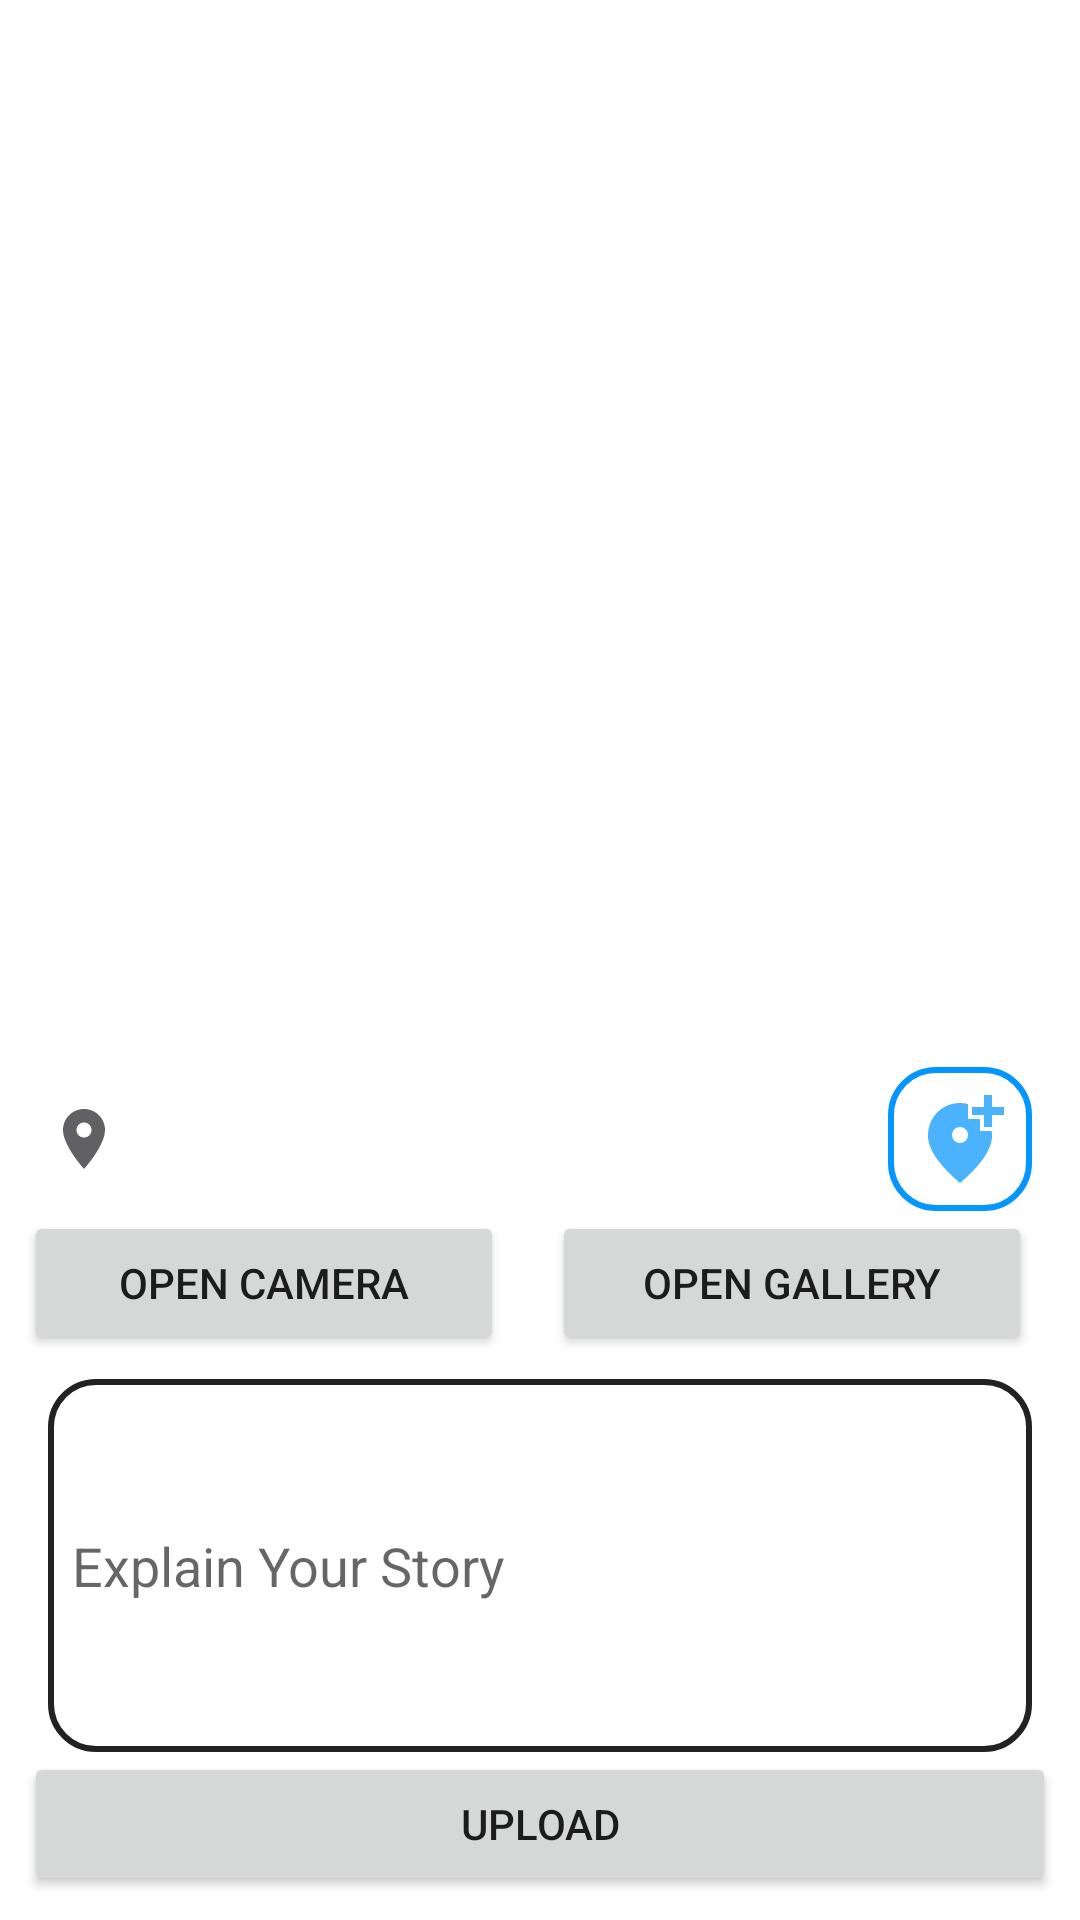

Screen size 1080 x 1920. Icon name, then its center in pixels as point (x, y):
add location: point (960, 1139)
